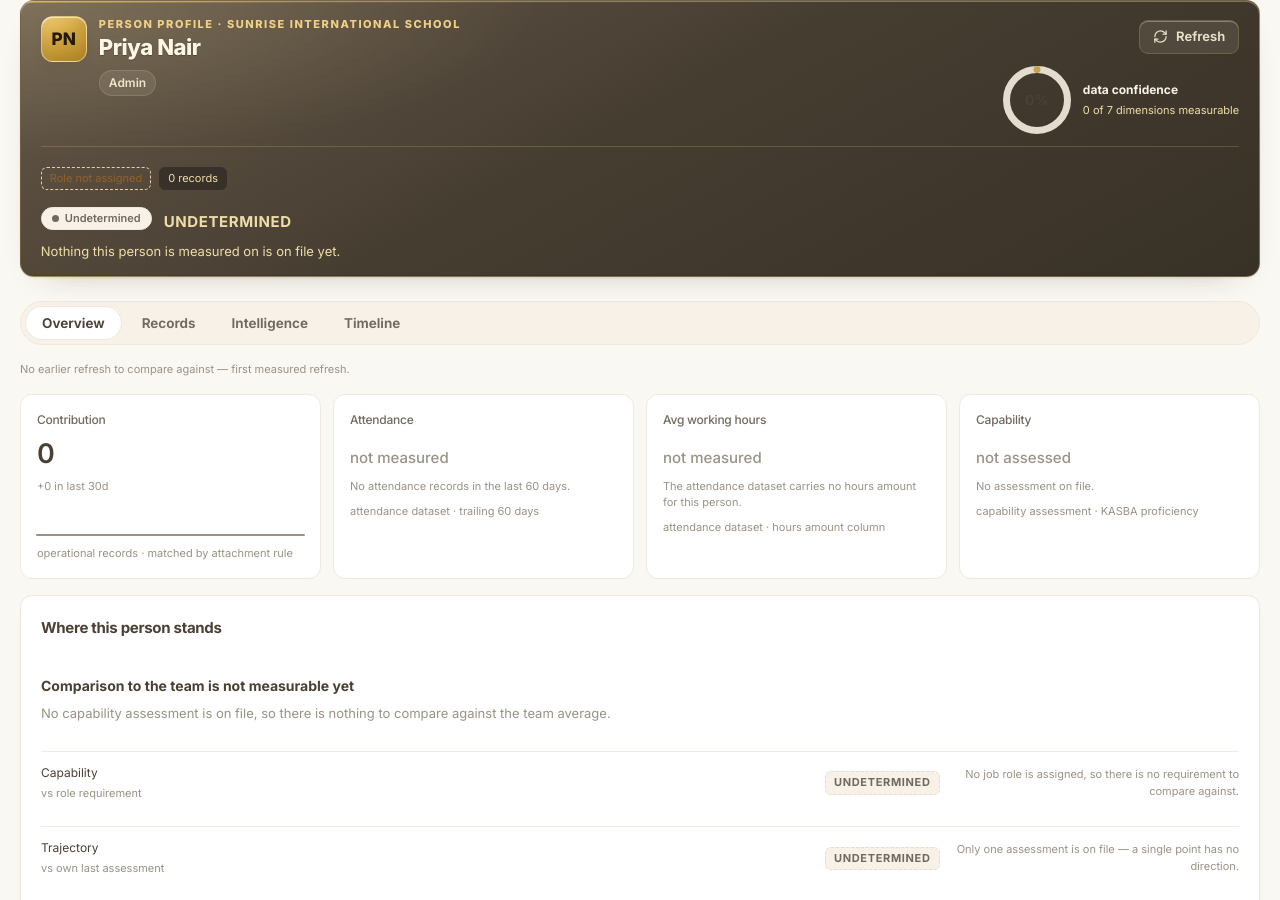
Test: Person profile › explains what would fill the intelligence section rather than showing empty counters
Click the tab "Intelligence": (270, 323) [216,306,324,340]
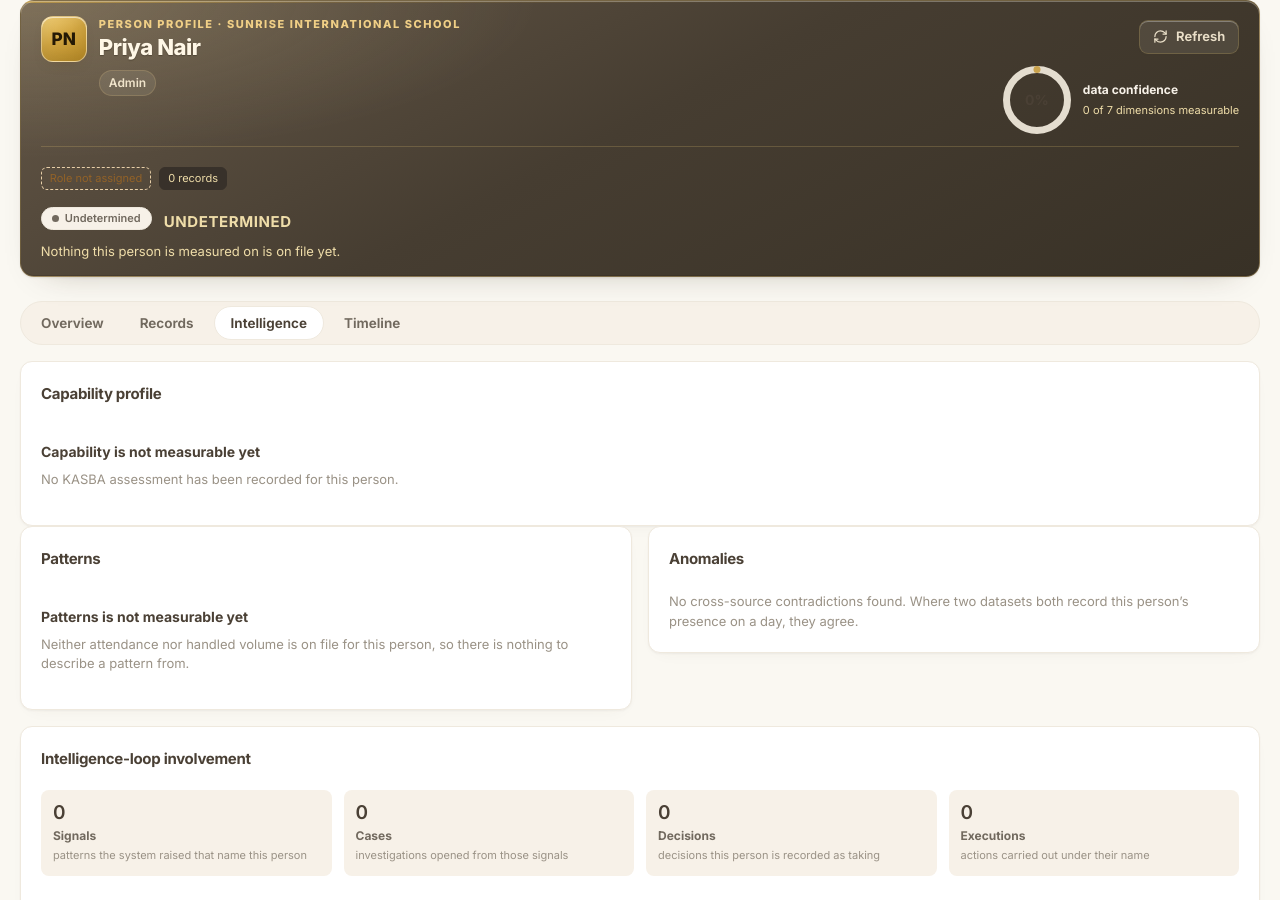
Expected: the text "Capability is not measurable yet" is shown, [41,442,260,462]
Expected: the text "No KASBA assessment has been recorded for this person." is shown, [41,470,398,489]
Expected: the text "patterns the system raised that name this person" is shown, [53,848,320,864]
